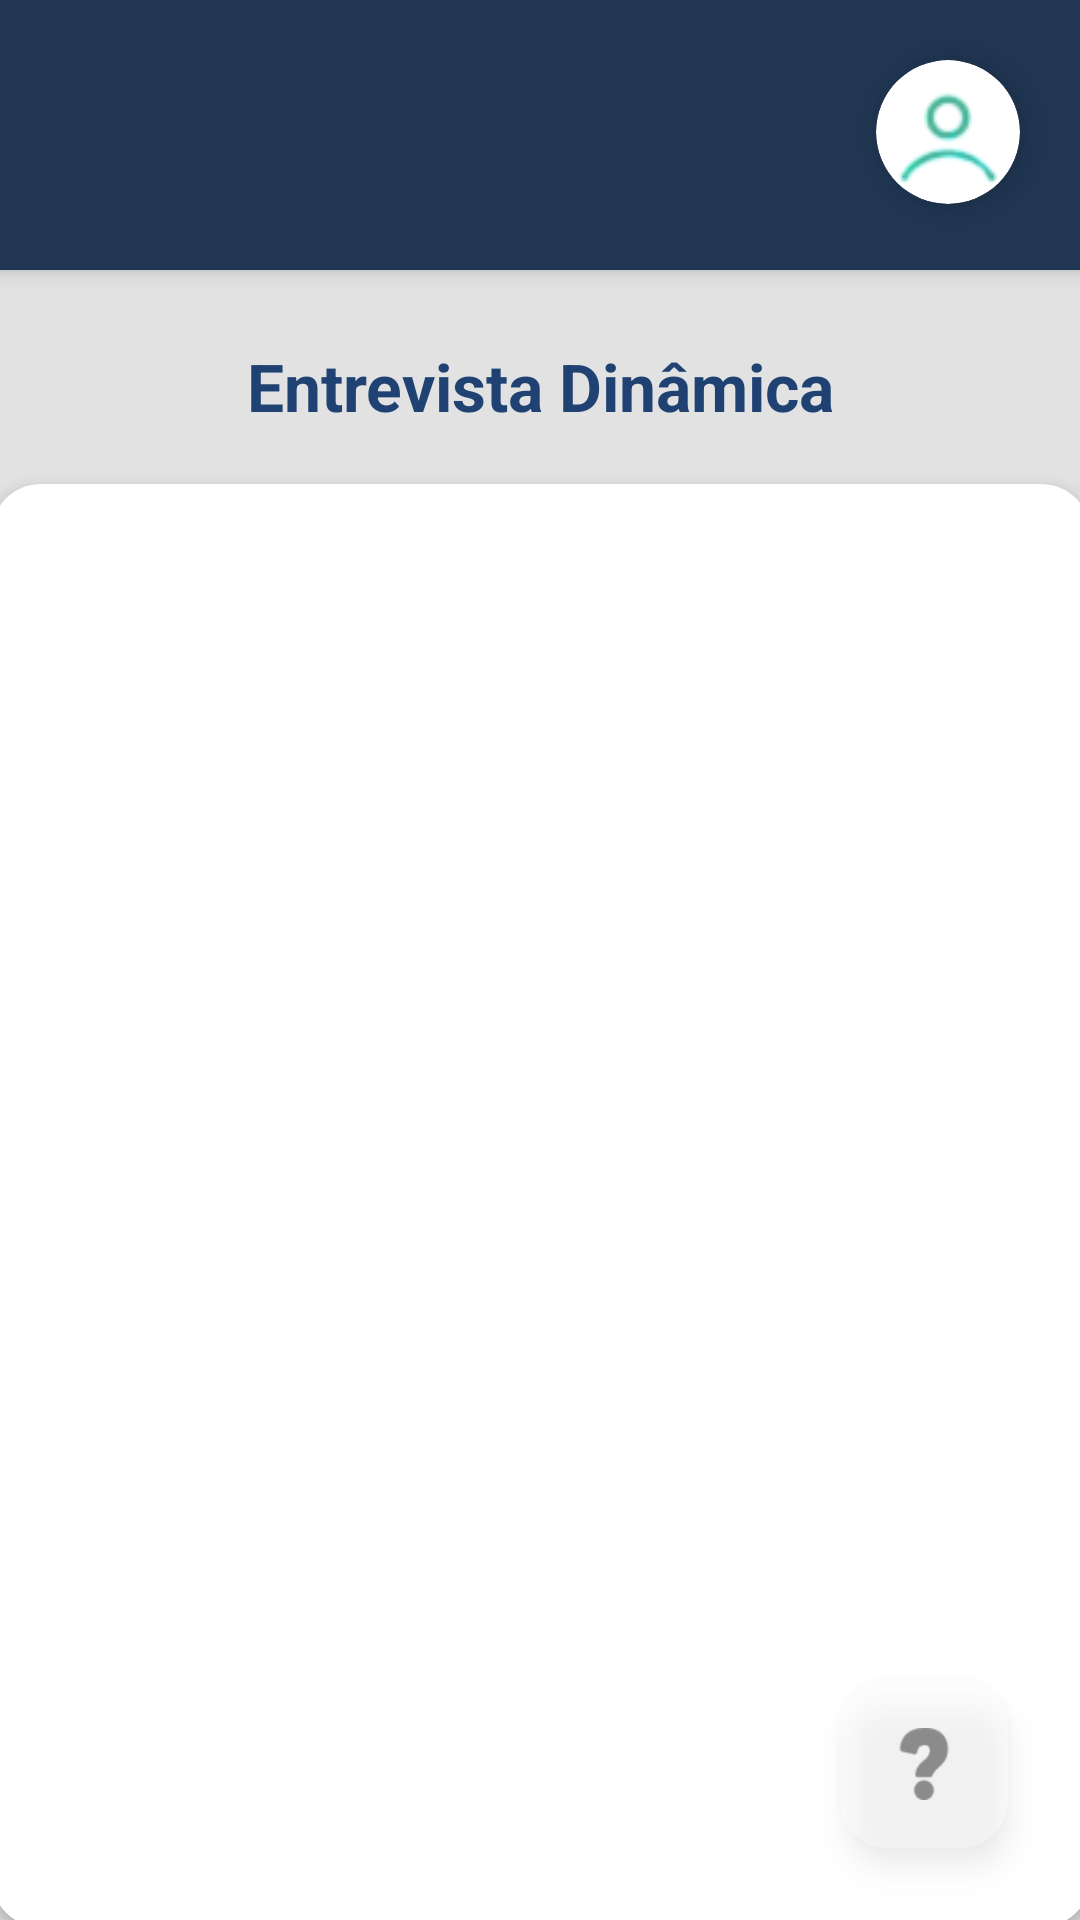

Where to tap for icons on this 1080×1920 app screen, as (x,y):
Foto de Perfil: (948,132)
interrogacao: (924,1764)
